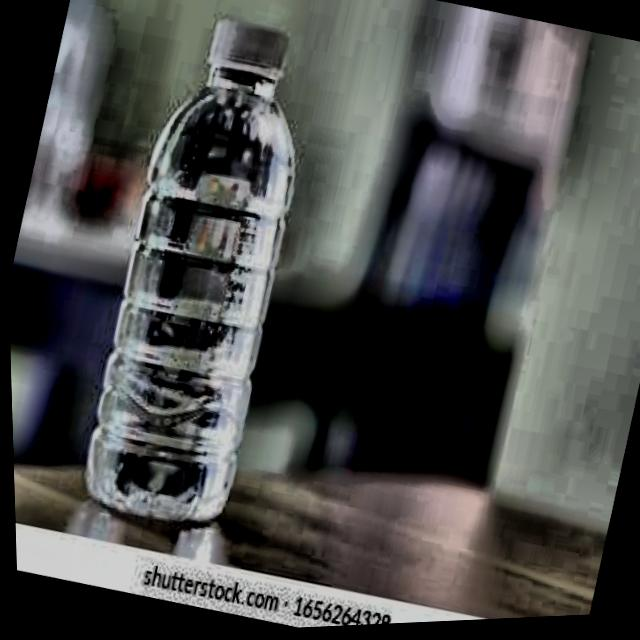Bottles: (44, 0, 355, 555)
